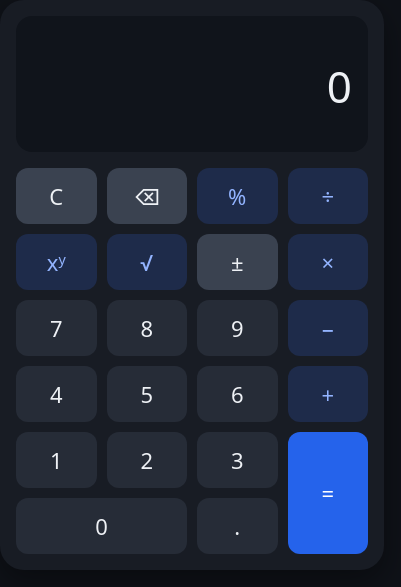
Test: CalculatorPanel › does not double-act when Enter follows a clicked button
Click the button "2": [147, 460] box x1=106 y1=432 x2=187 y2=488
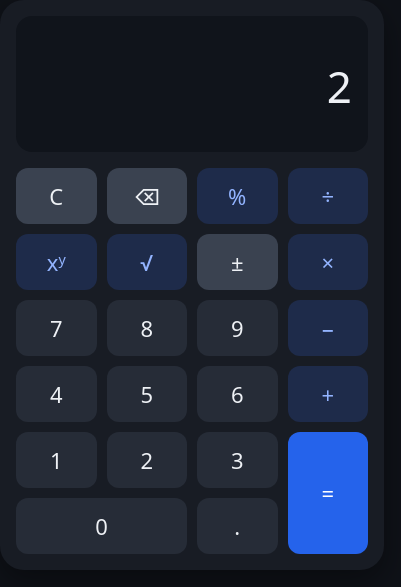
Click the button named "add": [328, 394] box x1=288 y1=366 x2=368 y2=422
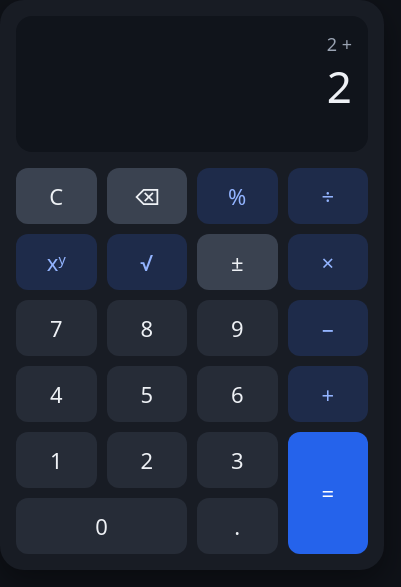
Type keys "3{Enter}"
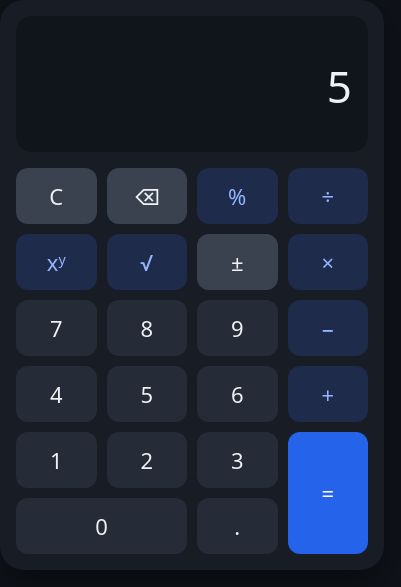
Now the text "5" is shown, box x1=327 y1=56 x2=352 y2=116
